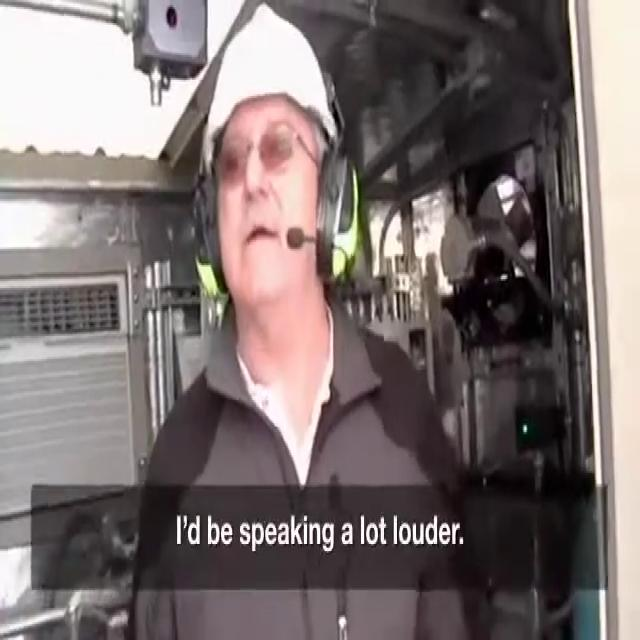earmuff: (314, 148, 362, 290), (188, 167, 233, 309)
glasses: (215, 119, 320, 183)
helmet: (198, 0, 343, 167)
